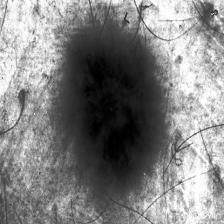Benign Marking or Mole: (71, 38, 158, 181)
